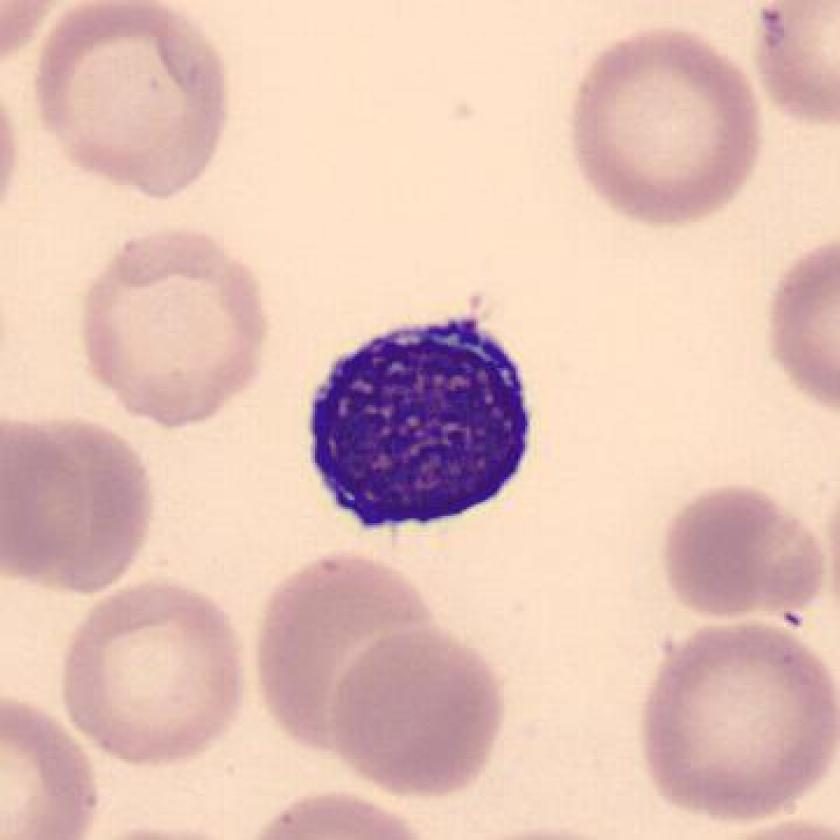lymphocyte: (295, 309, 547, 547)
